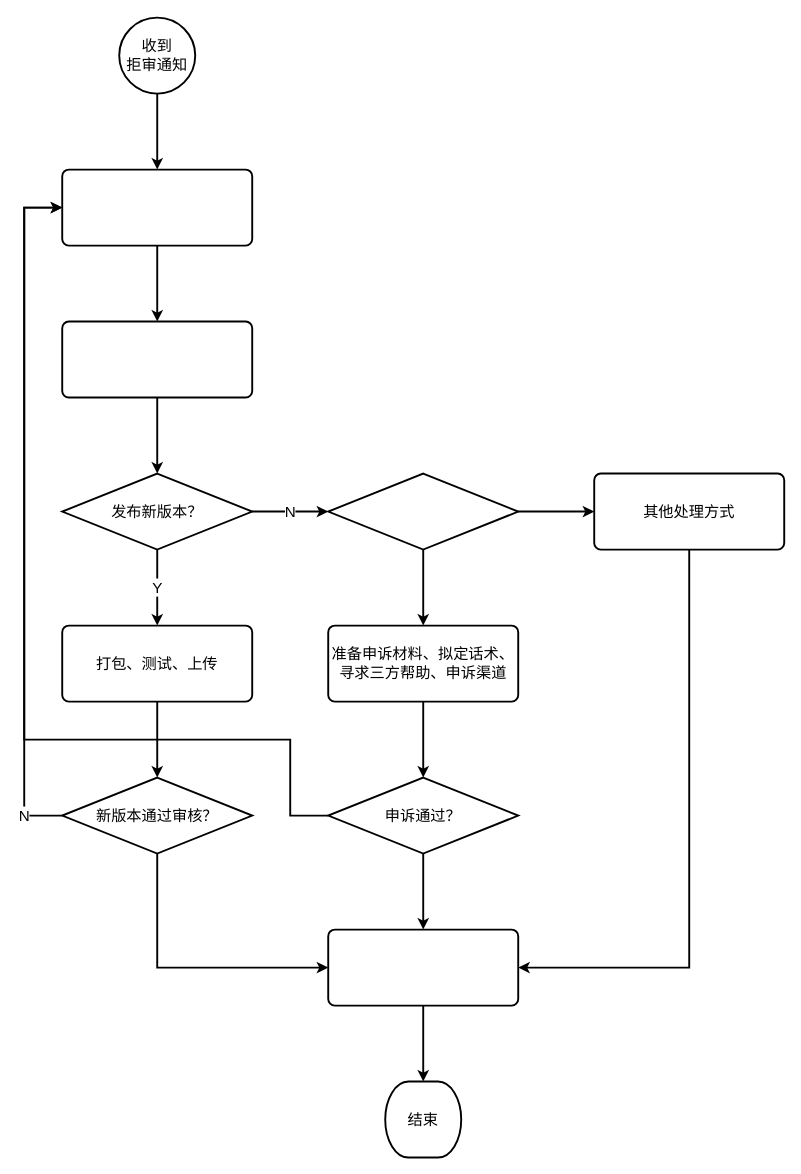
This 801x1174 diagram has some shape labels left out. Each missing label, with the box of its shape:
发起申诉？: (327, 472, 519, 550)
复盘、经验沉淀: (327, 928, 519, 1006)
问题排查: (61, 320, 253, 398)
问题知会: (61, 168, 253, 246)
